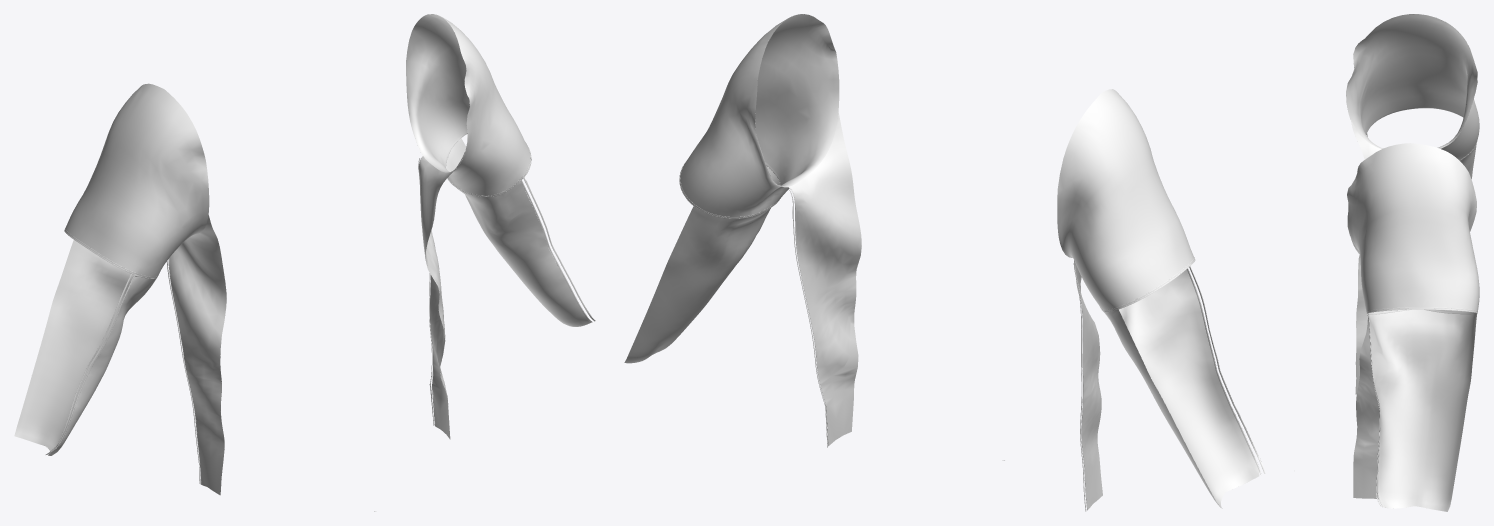
Rendered from Jac_Hands.glb.
3 renders of one model, left to right at view 1: azimuth 30°, elevation 25°; view 2: azimuth 150°, elevation 25°; view 3: azimuth 270°, elevation 25°, orthographic. The views are drawn at different scales.
Visible parts, largest first — view 1: Jac_Hands.001, Jac_Rope_Hands.001; view 2: Jac_Hands.001, Jac_Rope_Hands.001; view 3: Jac_Hands.001, Jac_Rope_Hands.001.
Boxes of the visible parts, <box> form: Jac_Hands.001: <box>14,14,590,511</box>; Jac_Rope_Hands.001: <box>45,143,595,484</box>; Jac_Hands.001: <box>624,14,1259,509</box>; Jac_Rope_Hands.001: <box>679,160,1265,511</box>; Jac_Hands.001: <box>1294,14,1479,511</box>; Jac_Rope_Hands.001: <box>1366,133,1477,507</box>.
Bounding box in the file's own units: 1.53 × 1.1 × 0.4746.
2 materials, 2 textured.
